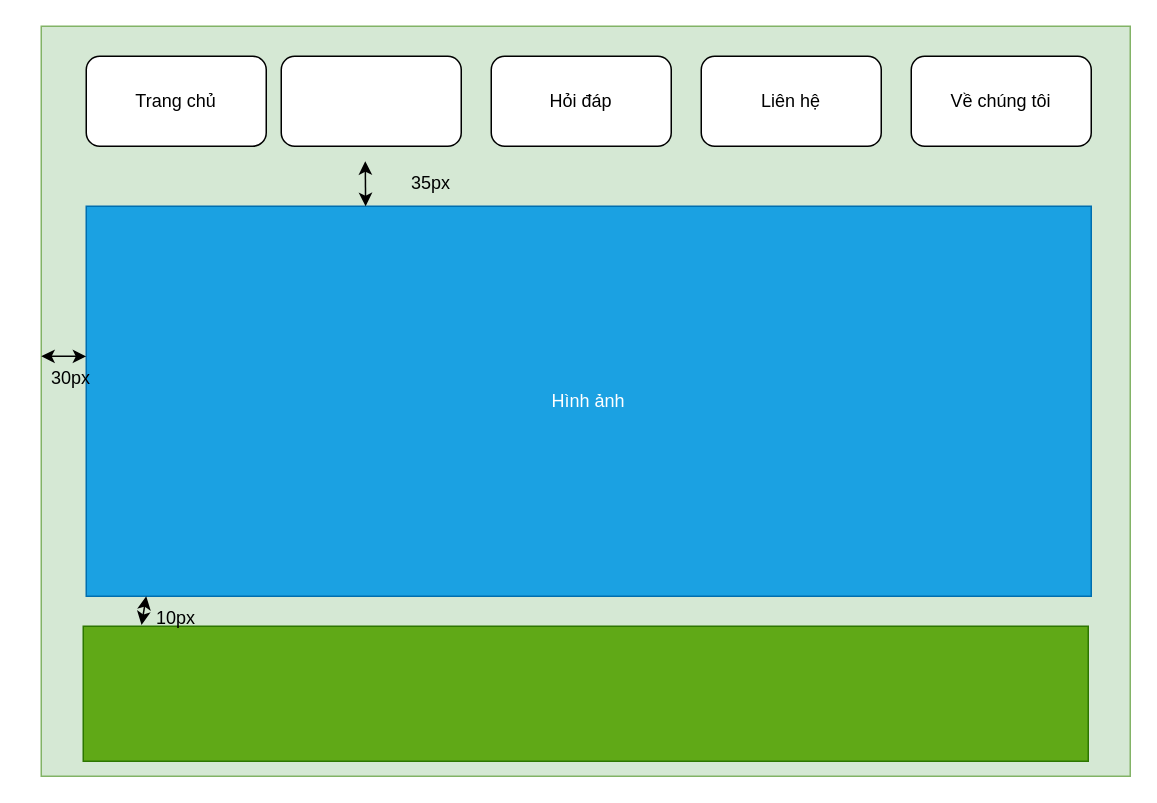
The diagram is 1157 pixels wide and 803 high, and some of its shapes have lost their labels. Each missing label, with the centre of its shape:
"Footer" goes at pixel 585 693.
"Tin tức" goes at pixel 370 100.
